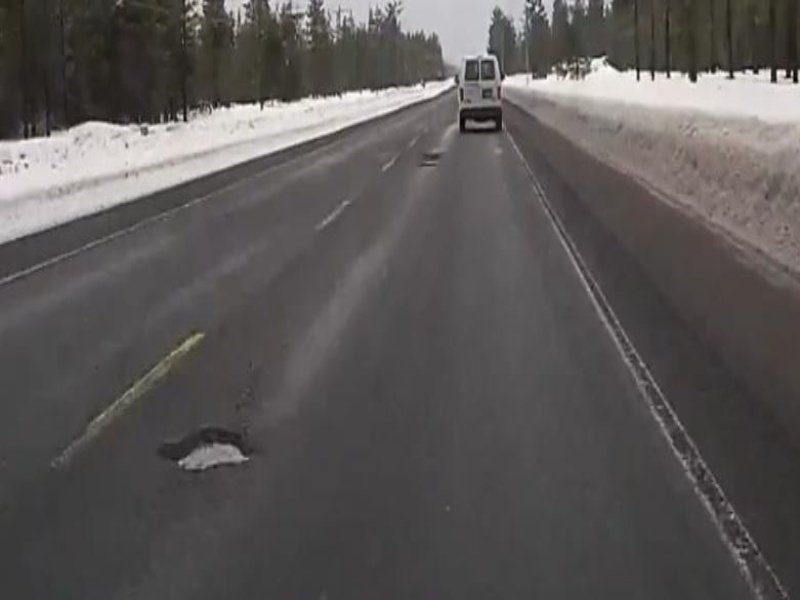pothole: (161, 424, 256, 477)
